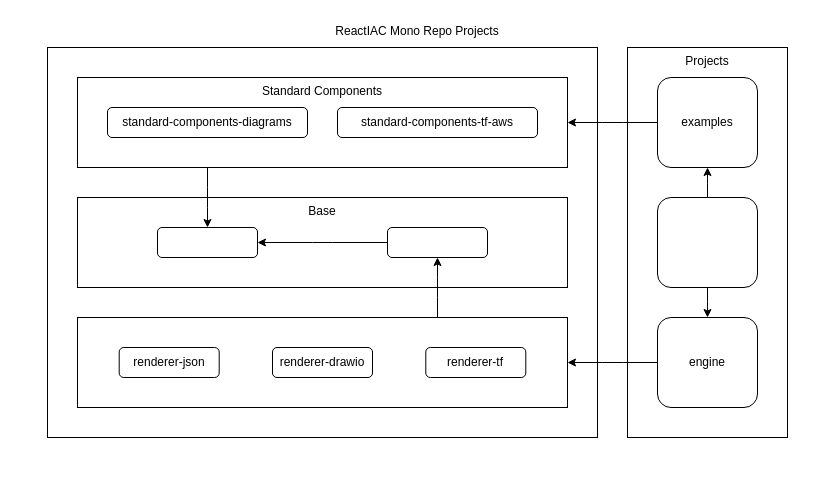
The diagram is 834 pixels wide and 484 high, and some of its shapes have lost their labels. Each missing label, with the box of its shape:
base-components: (156, 226, 258, 258)
base-renderer: (386, 226, 488, 258)
cli: (656, 196, 758, 288)
Core Project / Modules: (46, 46, 598, 438)
Renderers: (76, 316, 568, 408)
